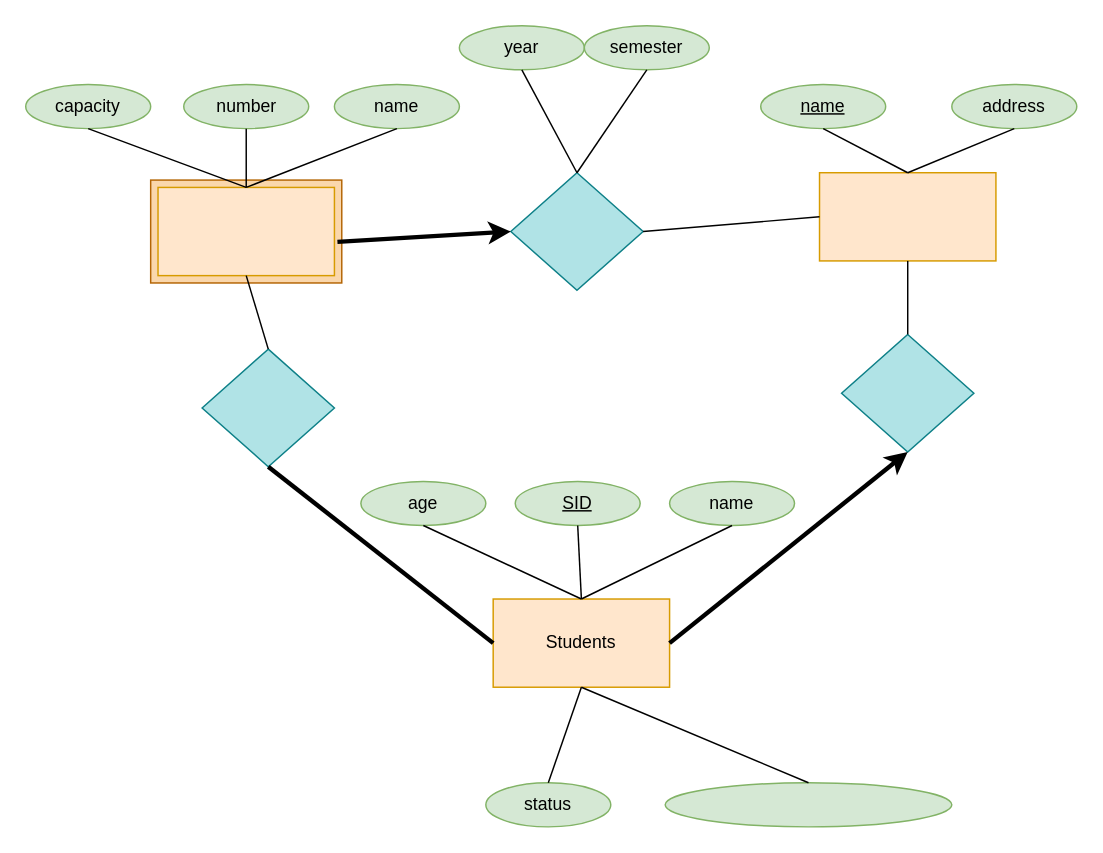
This 1103x853 diagram has some shape labels left out. The shapes that lost their labels are listed below. From the top down, each one's centre as x and y in pixels, then its label:
At (x=245, y=231): "Course".
At (x=576, y=230): "OfferedBy".
At (x=907, y=216): "Department".
At (x=267, y=407): "EnrolledIn".
At (x=907, y=392): "PartOf".
At (x=808, y=804): "research_field_or_concentration".
